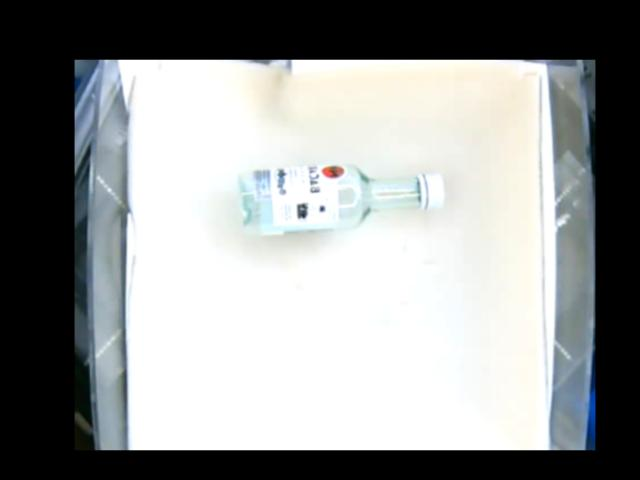Bottle: (238, 163, 445, 237)
